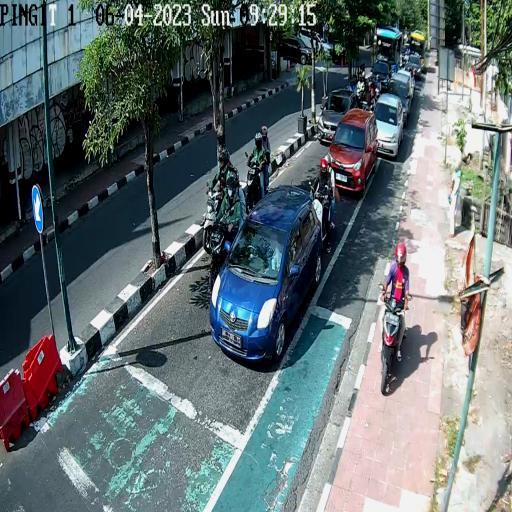mobil: (210, 184, 324, 362), (326, 106, 378, 196), (318, 88, 358, 146), (373, 93, 404, 159), (387, 73, 412, 125)
motor: (378, 282, 411, 402), (206, 210, 232, 295), (308, 180, 334, 252), (200, 180, 225, 252), (242, 152, 268, 211)
